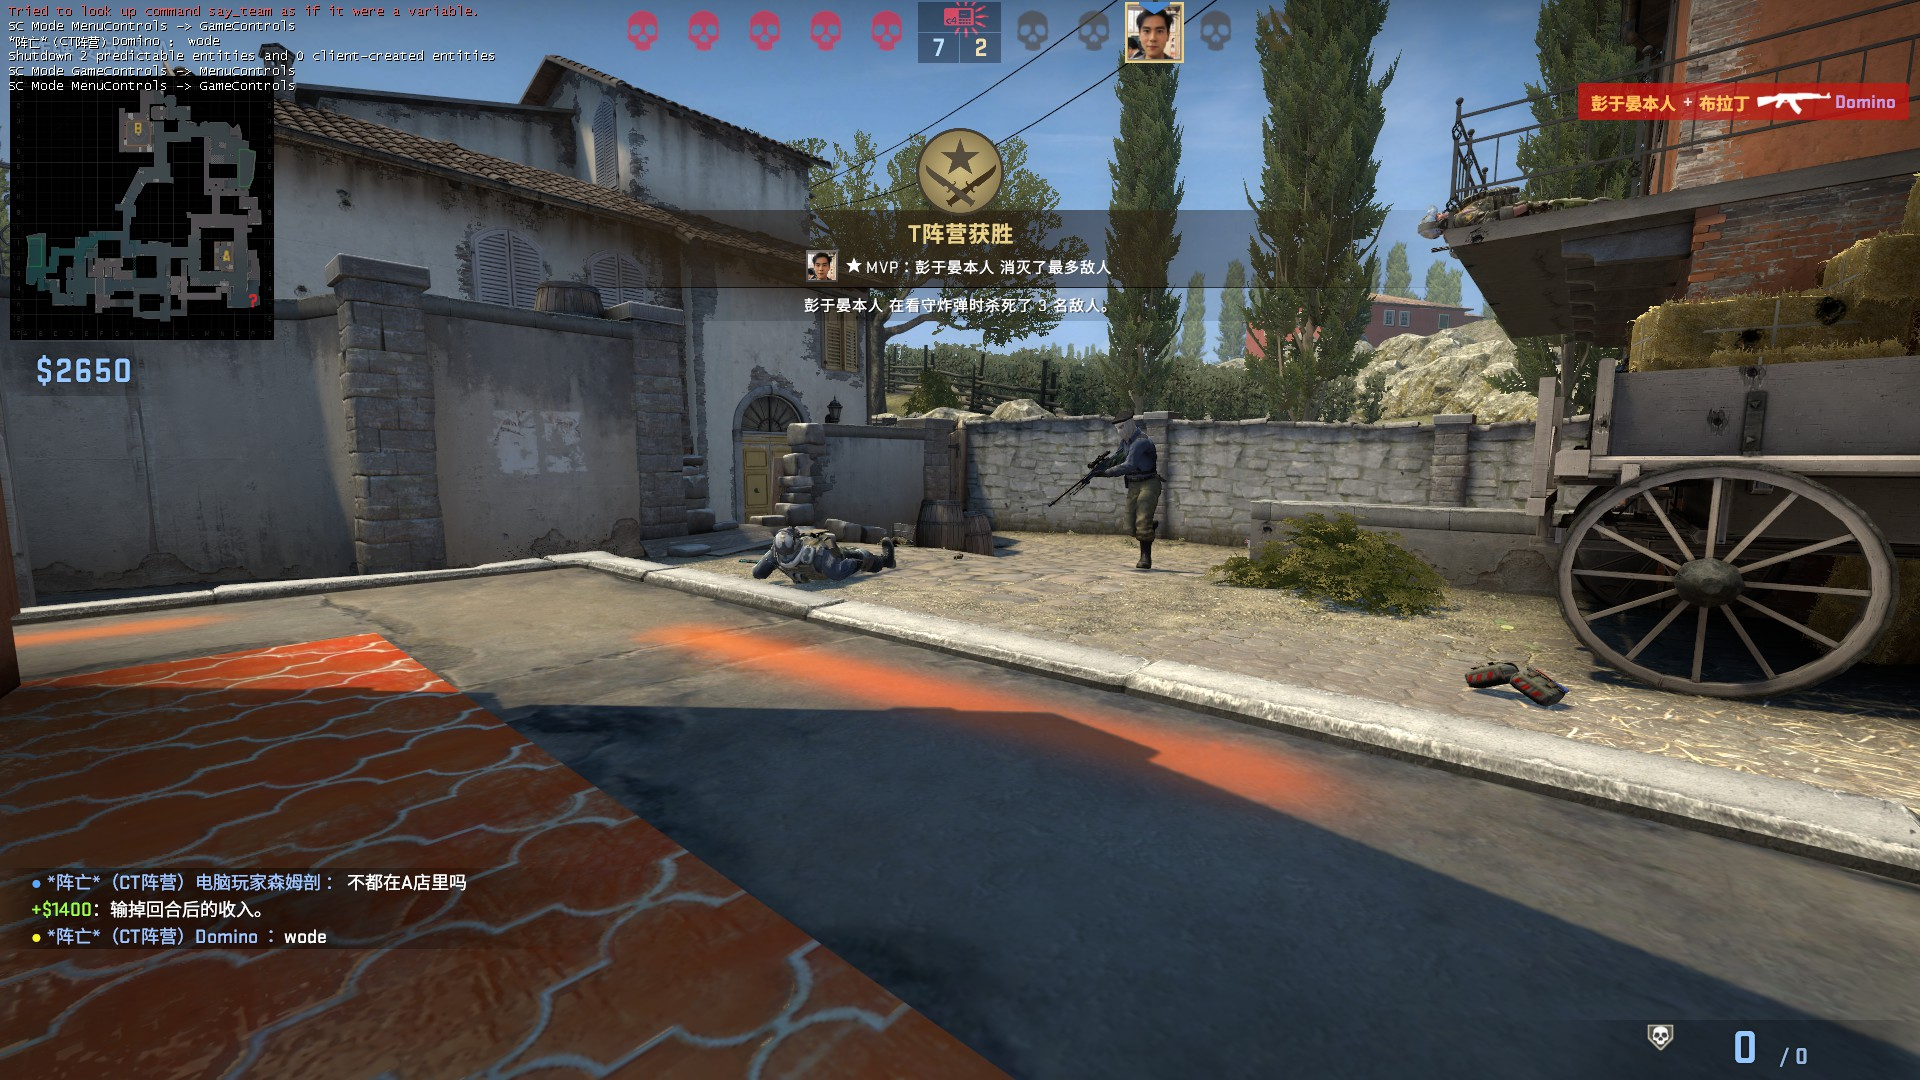head: (768, 524, 800, 559), (1110, 408, 1140, 442)
